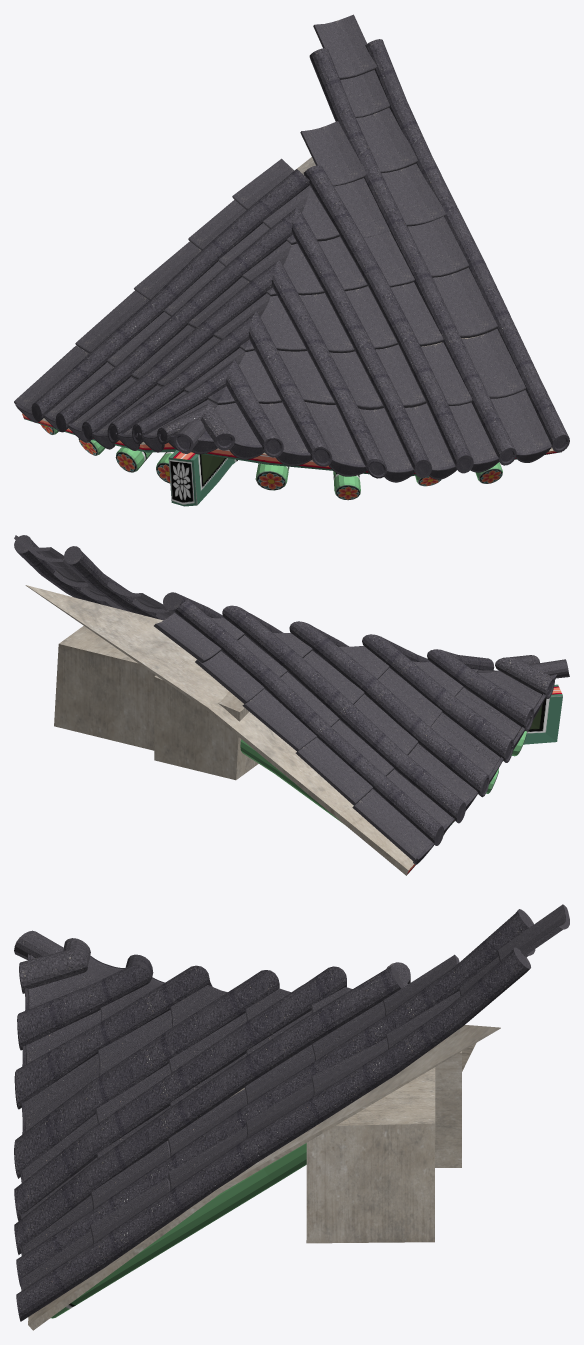
Rendered from SM_R_RoofCorner_16.fbx.
3 renders of one model, top to bottom at view 1: azimuth 30°, elevation 25°; view 2: azimuth 150°, elevation 25°; view 3: azimuth 270°, elevation 25°, orthographic. The views are drawn at different scales.
Visible parts, largest first — view 1: SM_R_RoofCorner_16; view 2: SM_R_RoofCorner_16; view 3: SM_R_RoofCorner_16.
Part boxes in pixels (x1,y1,x2,y2): SM_R_RoofCorner_16: (14,14,569,506); SM_R_RoofCorner_16: (14,535,569,875); SM_R_RoofCorner_16: (14,904,569,1330).
Bounding box in the file's own units: 340 × 312 × 264.
Materials: 5 (5 with a texture image).
